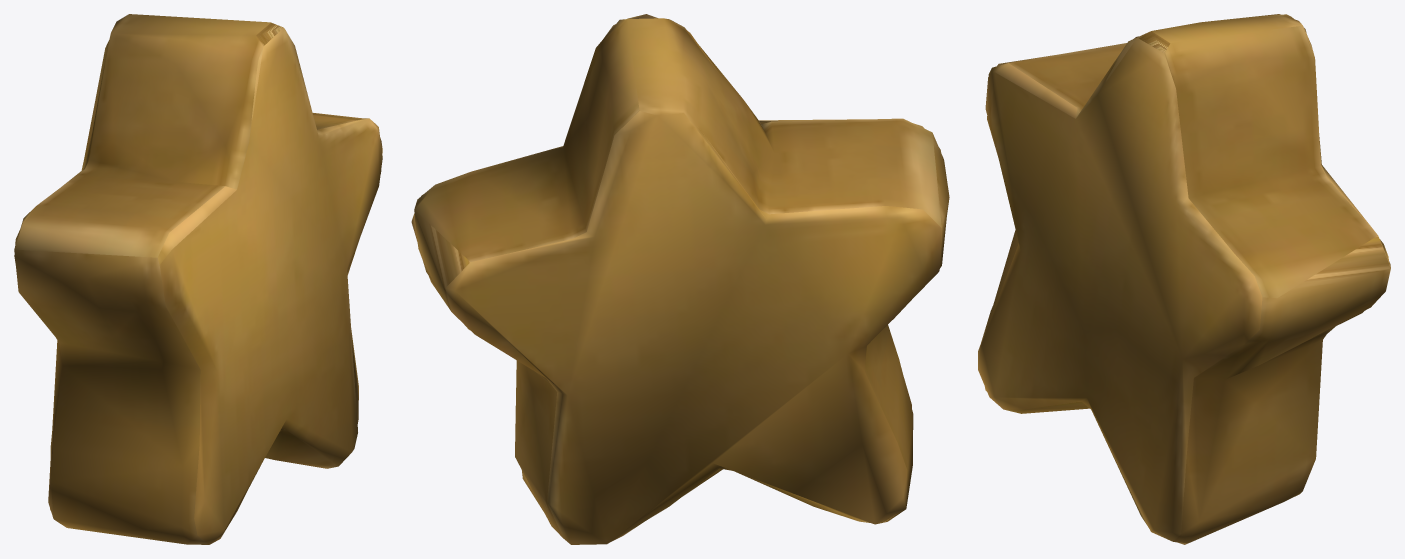
Rendered from token-star-lite.glb.
3 views of the same model, side by side, from view 1: azimuth 30°, elevation 25°; view 2: azimuth 150°, elevation 25°; view 3: azimuth 270°, elevation 25° (orthographic). The views are drawn at different scales.
Visible parts, largest first — view 1: geometry_0; view 2: geometry_0; view 3: geometry_0.
Boxes of the visible parts, left/top/right/bottom form: geometry_0: left=14, top=14, right=382, bottom=544; geometry_0: left=411, top=14, right=949, bottom=544; geometry_0: left=978, top=14, right=1390, bottom=544.
Size of the model in its own units: 0.8605 by 0.866 by 0.6958.
1 material, 1 textured.
